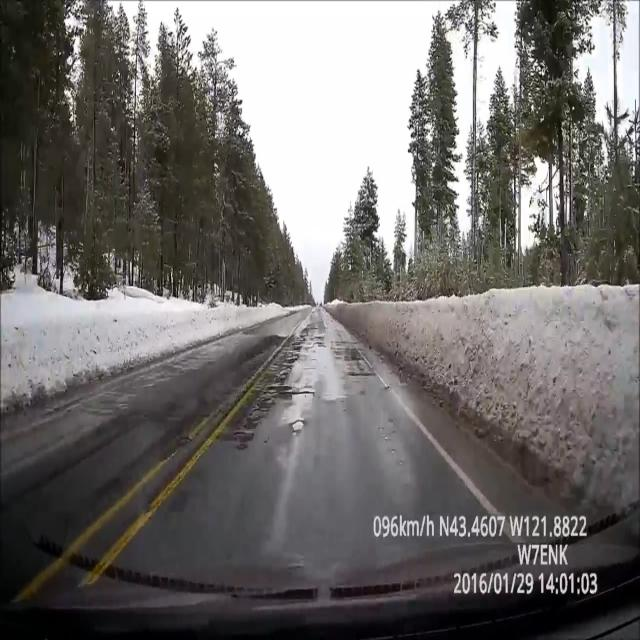Pothole: (258, 370, 318, 401), (228, 402, 270, 441), (335, 334, 366, 366), (278, 334, 310, 364)
